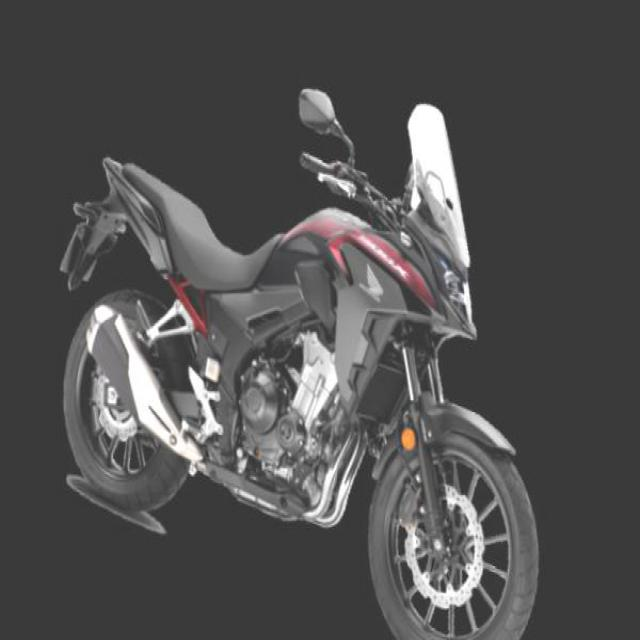CB500X: (28, 1, 608, 638)
